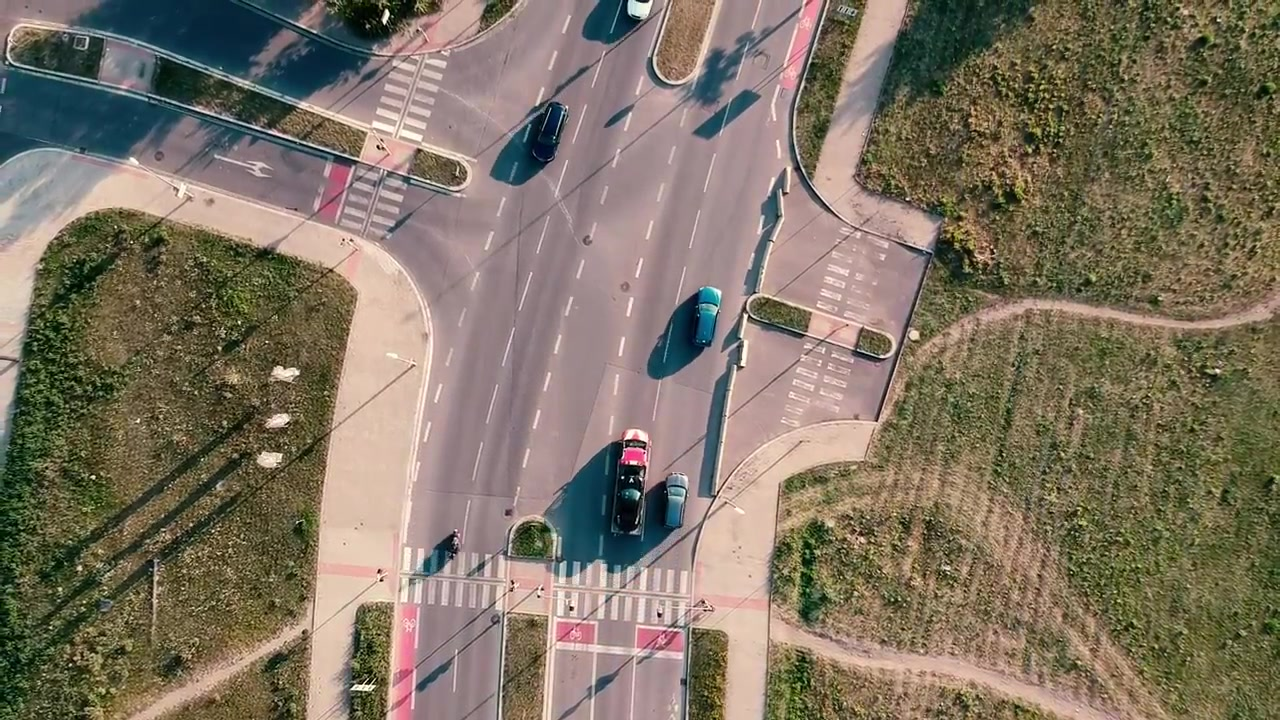car: (611, 426, 651, 543), (528, 100, 572, 165), (689, 284, 724, 350), (661, 468, 690, 533), (625, 1, 655, 23)
